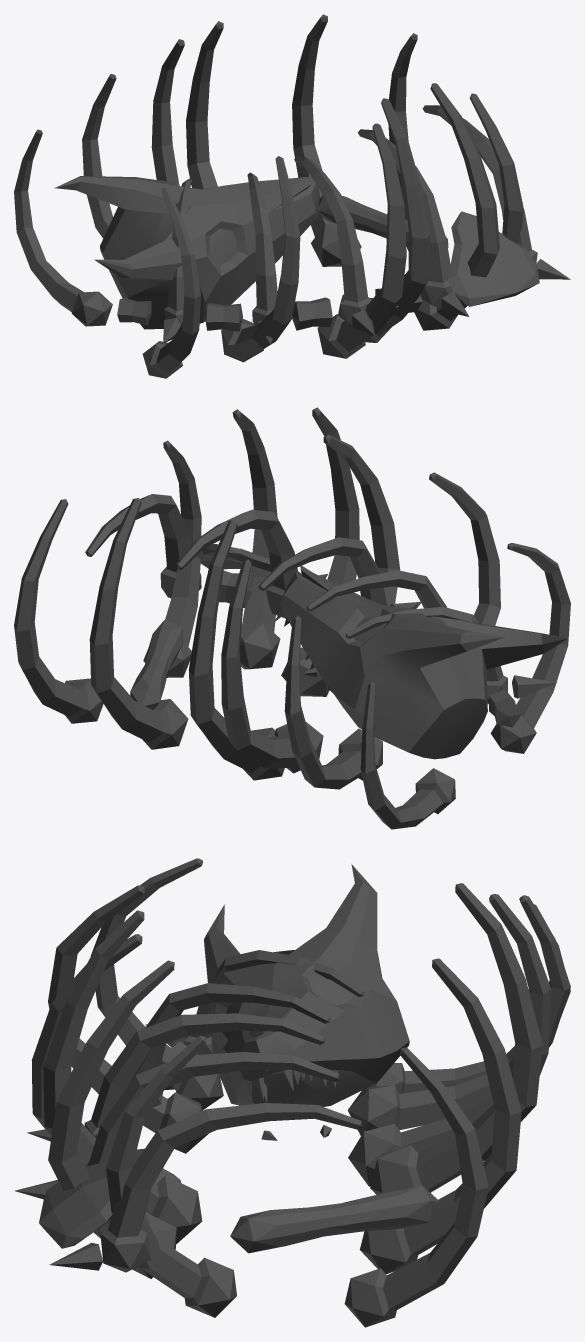
The model's file is Scorched Bones.fbx.
3 renders of one model, top to bottom at view 1: azimuth 30°, elevation 25°; view 2: azimuth 150°, elevation 25°; view 3: azimuth 270°, elevation 25°, orthographic. The views are drawn at different scales.
Parts seen in each view (by area): view 1: Rib_Path, Spine, Skull; view 2: Rib_Path, Skull, Spine; view 3: Rib_Path, Spine, Skull.
Boxes of the visible parts, x1,y1,x2,y2 form: Rib_Path: (14, 14, 523, 378); Spine: (117, 105, 570, 343); Skull: (54, 176, 319, 329); Rib_Path: (14, 407, 570, 829); Skull: (274, 565, 567, 759); Spine: (85, 494, 557, 727); Rib_Path: (31, 858, 570, 1327); Spine: (14, 950, 438, 1272); Skull: (204, 864, 409, 1140).
Size of the model in its own units: 105 by 62.32 by 92.77.
